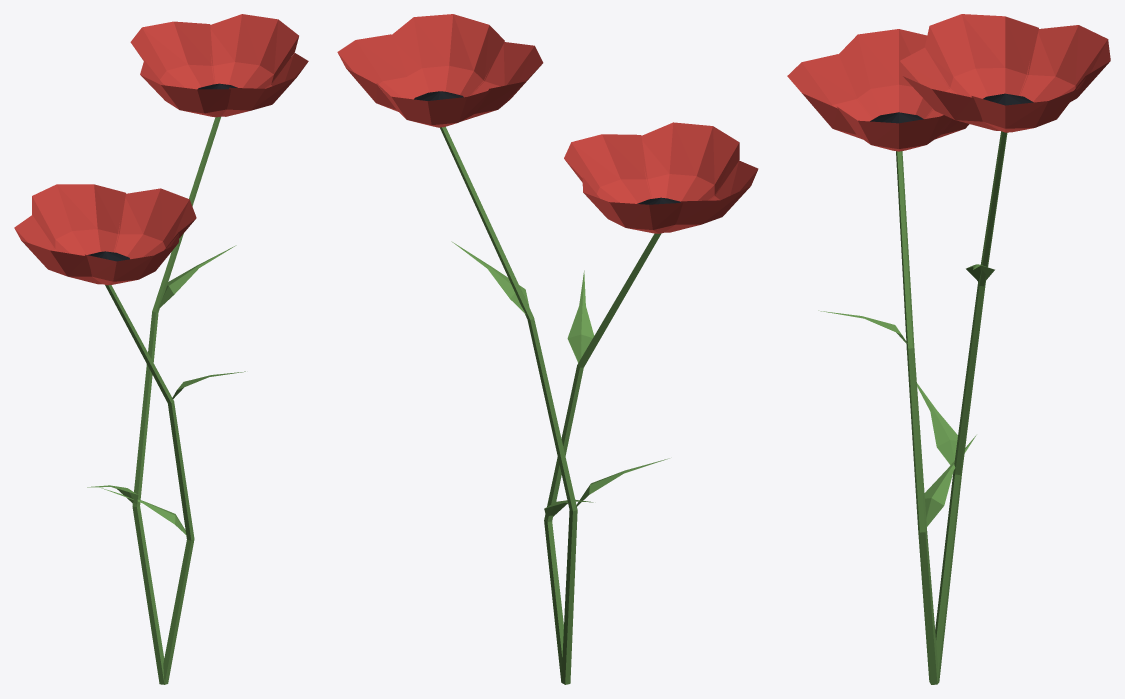
Rendered from flower_poppy.glb.
3 renders of one model, left to right at view 1: azimuth 30°, elevation 25°; view 2: azimuth 150°, elevation 25°; view 3: azimuth 270°, elevation 25°, orthographic. The views are drawn at different scales.
Visible parts, largest first — view 1: flower_poppy; view 2: flower_poppy; view 3: flower_poppy.
Boxes of the visible parts, x1,y1,x2,y2 form: flower_poppy: (14,14,308,684); flower_poppy: (337,14,758,684); flower_poppy: (787,14,1110,684).
Bounding box in the file's own units: 0.2425 × 0.42 × 0.1825.
